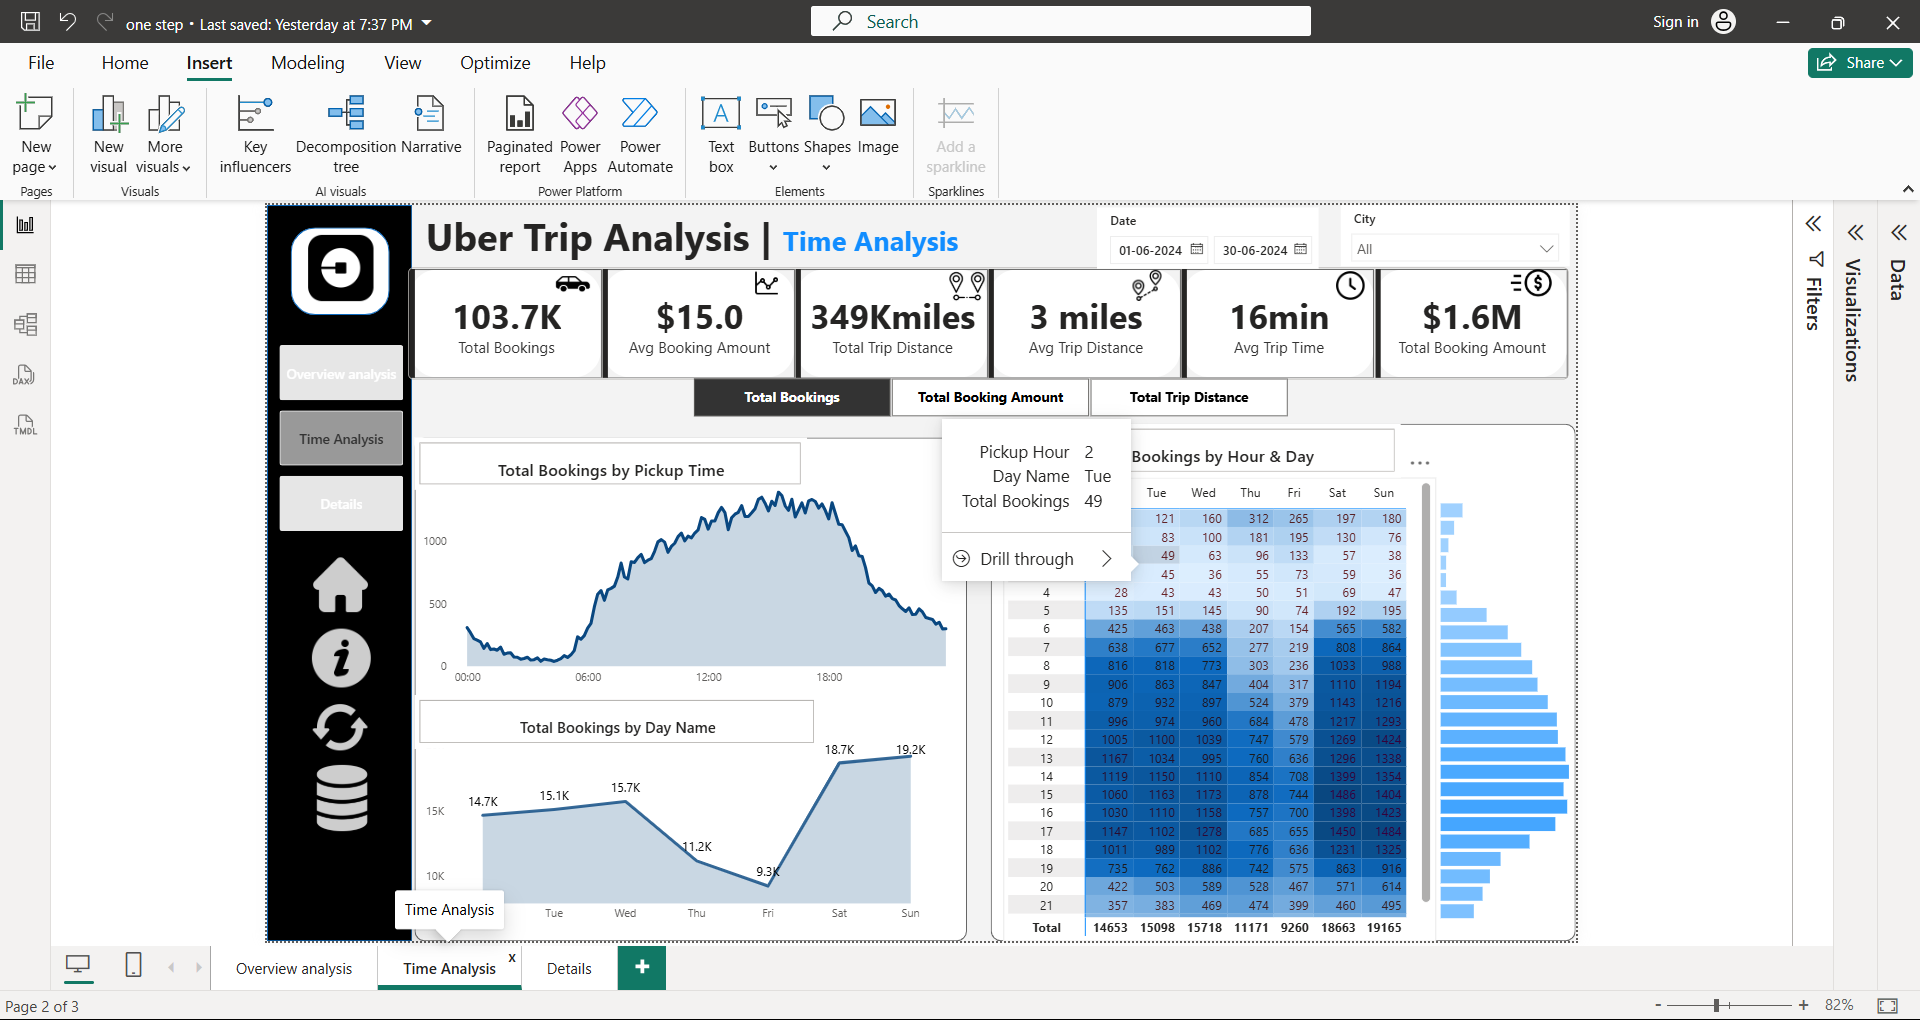

This screenshot's page, from the dashboard's own definition file:
{"tool":"powerbi","page":{"name":"Time Analysis","canvas":[1280,720],"ordinal":1},"visuals":[{"type":"shape","box":[0,0,141.8,720.2],"z":0},{"type":"textbox","box":[150.4,0,672.6,64.8],"z":1000},{"type":"cardVisual","fields":{"Data":["Trip Details.Total Bookings","Trip Details.Avg Booking Amount","Trip Details.Total Trip Distance","Trip Details.Avg Trip Distance","Trip Details.Avg Trip Time","Trip Details.Total Booking Amount"]},"box":[133.3,56.3,1147,119.8],"z":2000},{"type":"image","box":[1200.8,51.4,72.1,50.1],"z":3000},{"type":"image","box":[831.5,58.7,61.1,40.4],"z":4000},{"type":"image","box":[1039.4,59.9,40.4,37.9],"z":5000},{"type":"image","box":[276.4,55,45.2,44],"z":6000},{"type":"image","box":[662.8,56.3,44,46.5],"z":7000},{"type":"image","box":[448.8,58.7,79.5,35.5],"z":8000},{"type":"slicer","fields":{"Values":["Parameter.Parameter"]},"box":[391.3,162.6,631,51.4],"z":9000},{"type":"shape","title":"Vehicle Type Analysis","box":[144.3,227.4,540.5,492.8],"z":10000},{"type":"slicer","fields":{"Values":["Calendar Table.Date"]},"box":[812,2.4,216.4,59.9],"z":11000},{"type":"slicer","fields":{"Values":["Location Table.City"]},"box":[1050.4,0,223.8,59.9],"z":12000},{"type":"areaChart","fields":{"Y":["Trip Details.Total Bookings"],"Category":["Trip Details.Pickup Hour (HH MM SS) (bins)"]},"box":[148,266.6,534.4,212.8],"z":13000},{"type":"cardVisual","fields":{"Data":["Trip Details.Title for  Pickup Time"]},"box":[144.3,227.4,384,51.4],"z":14000},{"type":"lineChart","fields":{"Y":["Trip Details.Total Bookings"],"Category":["Calendar Table.Day Name"]},"box":[150.4,514.8,512.4,195.7],"z":15000},{"type":"cardVisual","fields":{"Data":["Trip Details.Title for by Day Name"]},"box":[144.3,479.4,396.2,52.6],"z":16000},{"type":"shape","title":"Vehicle Type Analysis","box":[708,214,572.3,506.3],"z":17000},{"type":"pivotTable","fields":{"Values":["Trip Details.Total Bookings"],"Rows":["Trip Details.Pickup Hour"],"Columns":["Calendar Table.Day Name"]},"box":[720.2,266.6,423.1,453.7],"z":18000},{"type":"clusteredBarChart","fields":{"Y":["Trip Details.Total Bookings"],"Category":["Trip Details.Pickup Hour"]},"box":[1143.3,278.8,137,441.4],"z":19000},{"type":"shape","box":[23.2,22,96.6,85.6],"z":20000},{"type":"image","box":[33,24.5,78.3,74.6],"z":21000},{"type":"cardVisual","fields":{"Data":["Trip Details.Title for by Hour & Day"]},"box":[720.2,214,388.9,52.6],"z":22000},{"type":"image","box":[39.1,407.2,67.3,72.1],"z":23000},{"type":"image","box":[39.1,479.4,64.8,63.6],"z":24000},{"type":"image","box":[33,542.9,80.7,74.6],"z":25000},{"type":"image","box":[40.4,337.5,63.6,67.3],"z":26000},{"type":"pageNavigator","box":[12.2,137,121.1,183.4],"z":27000}]}

Visuals, with their boxes on the page's 1280x720 design canvas (x1, y1, x2, y2). These are canvas units, not pixel positions in the 1920x1020 screenshot, which may show the page scaled, cropped or inside an application window:
shape: x1=0 y1=0 x2=142 y2=720
textbox: x1=150 y1=0 x2=823 y2=65
cardVisual - Trip Details.Total Bookings x Trip Details.Avg Booking Amount: x1=133 y1=56 x2=1280 y2=176
image: x1=1201 y1=51 x2=1273 y2=102
image: x1=832 y1=59 x2=893 y2=99
image: x1=1039 y1=60 x2=1080 y2=98
image: x1=276 y1=55 x2=322 y2=99
image: x1=663 y1=56 x2=707 y2=103
image: x1=449 y1=59 x2=528 y2=94
slicer - Parameter.Parameter: x1=391 y1=163 x2=1022 y2=214
"Vehicle Type Analysis" shape: x1=144 y1=227 x2=685 y2=720
slicer - Calendar Table.Date: x1=812 y1=2 x2=1028 y2=62
slicer - Location Table.City: x1=1050 y1=0 x2=1274 y2=60
areaChart - Trip Details.Total Bookings x Trip Details.Pickup Hour (HH MM SS) (bins): x1=148 y1=267 x2=682 y2=479
cardVisual - Trip Details.Title for  Pickup Time: x1=144 y1=227 x2=528 y2=279
lineChart - Trip Details.Total Bookings x Calendar Table.Day Name: x1=150 y1=515 x2=663 y2=710
cardVisual - Trip Details.Title for by Day Name: x1=144 y1=479 x2=540 y2=532
"Vehicle Type Analysis" shape: x1=708 y1=214 x2=1280 y2=720
pivotTable - Trip Details.Total Bookings x Trip Details.Pickup Hour: x1=720 y1=267 x2=1143 y2=720
clusteredBarChart - Trip Details.Total Bookings x Trip Details.Pickup Hour: x1=1143 y1=279 x2=1280 y2=720
shape: x1=23 y1=22 x2=120 y2=108
image: x1=33 y1=24 x2=111 y2=99
cardVisual - Trip Details.Title for by Hour & Day: x1=720 y1=214 x2=1109 y2=267
image: x1=39 y1=407 x2=106 y2=479
image: x1=39 y1=479 x2=104 y2=543
image: x1=33 y1=543 x2=114 y2=618
image: x1=40 y1=338 x2=104 y2=405
pageNavigator: x1=12 y1=137 x2=133 y2=320
